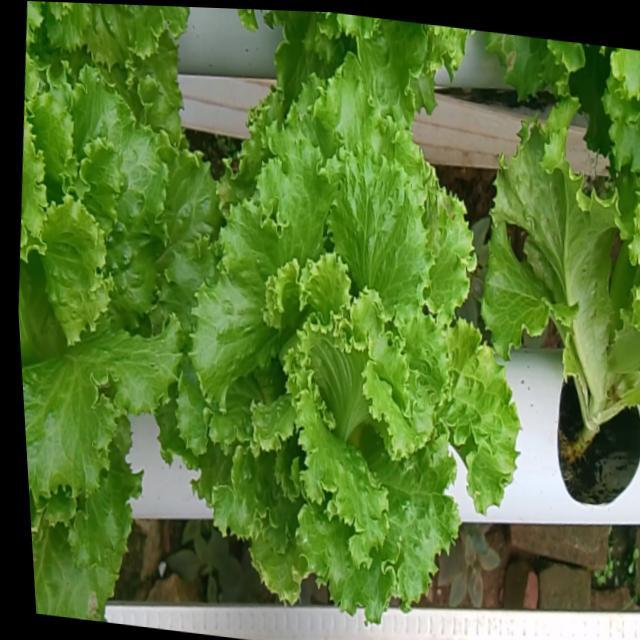Mature: (183, 90, 525, 640), (18, 80, 224, 523)
